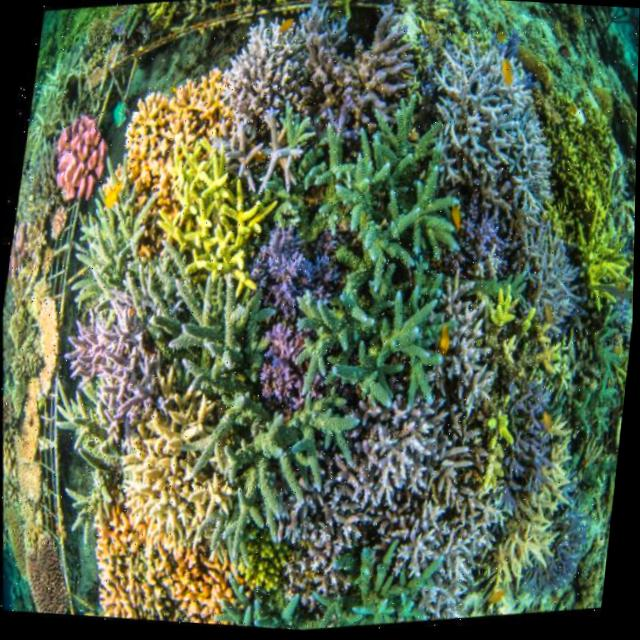Healthy Coral: (69, 265, 379, 578), (258, 51, 500, 416), (447, 303, 617, 598), (0, 274, 120, 618), (505, 62, 639, 324), (125, 118, 297, 321), (316, 379, 482, 553), (415, 10, 534, 188)
